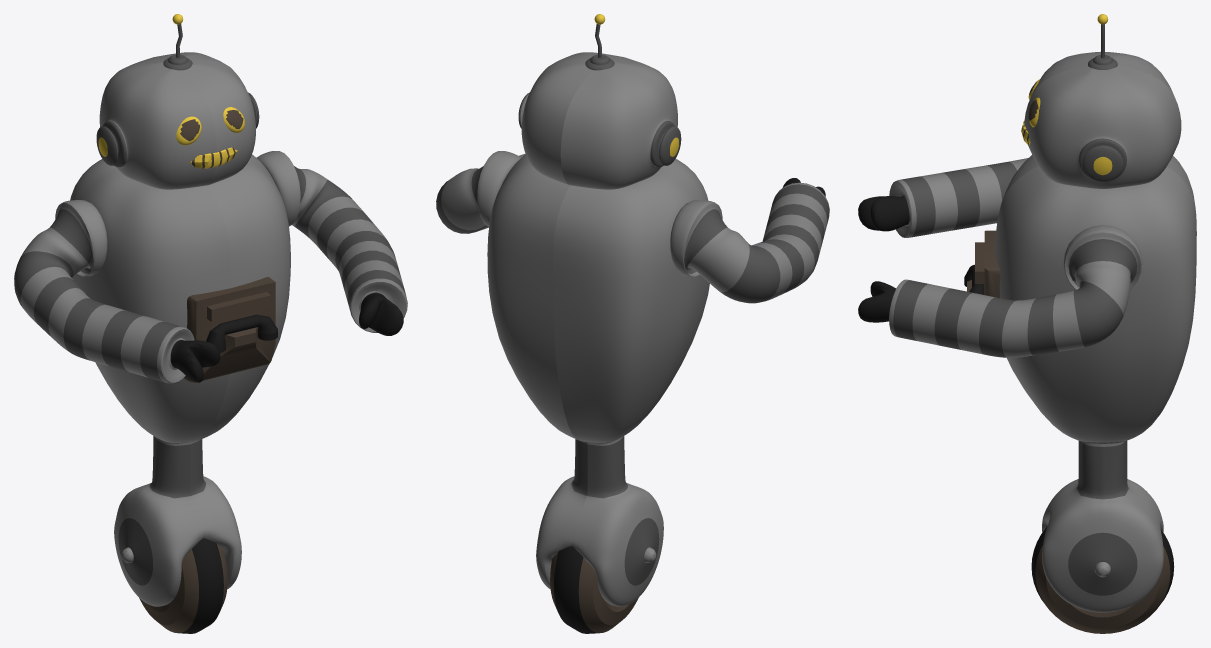
File: ROBO TEKER.fbx
3 renders of one model, left to right at view 1: azimuth 30°, elevation 25°; view 2: azimuth 150°, elevation 25°; view 3: azimuth 270°, elevation 25°, orthographic.
Parts seen in each view (by area): view 1: robot, teker; view 2: robot, teker; view 3: robot, teker.
Part boxes in pixels (x1,y1,x2,y2): robot: [14, 14, 407, 606]; teker: [139, 538, 227, 633]; robot: [436, 14, 829, 606]; teker: [550, 546, 638, 633]; robot: [858, 14, 1196, 612]; teker: [1031, 526, 1174, 633].
Size of the model in its own units: 102 by 177 by 87.99.
